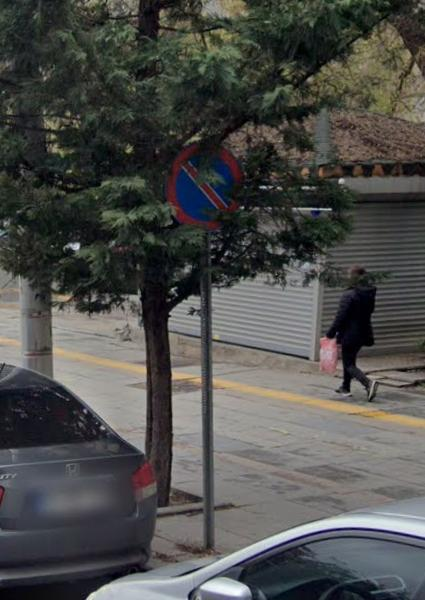nopark: (170, 141, 241, 225)
